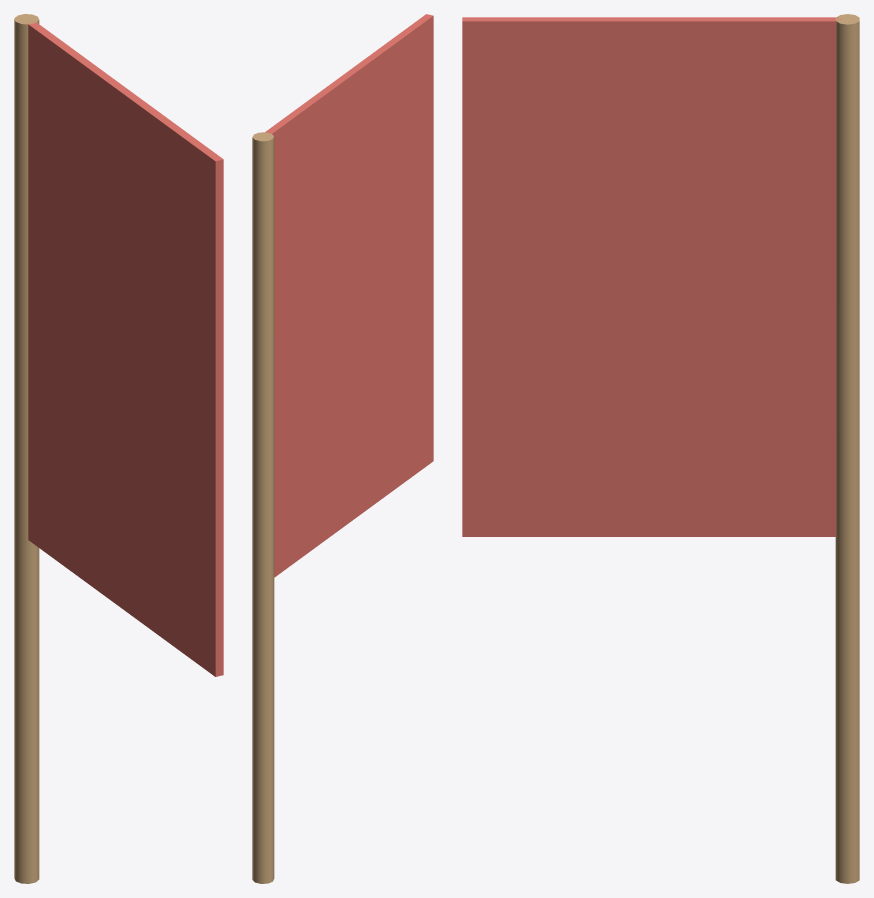
Rendered from prop_banner.glb.
The picture shows the model from 3 angles, left to right: view 1: azimuth 30°, elevation 25°; view 2: azimuth 150°, elevation 25°; view 3: azimuth 270°, elevation 25°; orthographic projection. The views are drawn at different scales.
Parts seen in each view (by area): view 1: Banner; view 2: Banner; view 3: Banner.
Boxes of the visible parts, x1,y1,x2,y2 form: Banner: (14,14,223,883); Banner: (252,14,433,883); Banner: (462,14,859,883).
Bounding box in the file's own units: 0.08 × 3 × 1.26.
